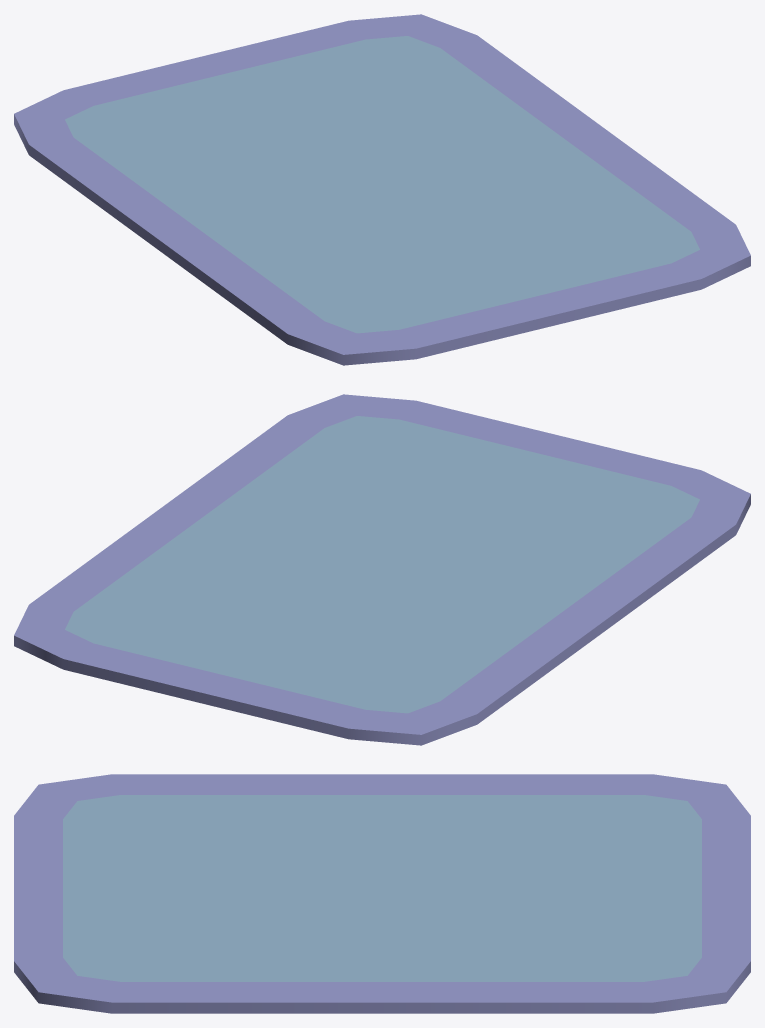
The model's file is carpet-rectangle-border-small.glb.
3 renders of one model, top to bottom at view 1: azimuth 30°, elevation 25°; view 2: azimuth 150°, elevation 25°; view 3: azimuth 270°, elevation 25°, orthographic. The views are drawn at different scales.
Parts seen in each view (by area): view 1: carpet-rectangle-border-small; view 2: carpet-rectangle-border-small; view 3: carpet-rectangle-border-small.
Boxes of the visible parts, x1,y1,x2,y2 form: carpet-rectangle-border-small: (14, 14, 750, 365); carpet-rectangle-border-small: (14, 394, 750, 745); carpet-rectangle-border-small: (14, 774, 750, 1013).
Bounding box in the file's own units: 1.1 × 0.025 × 1.5.
